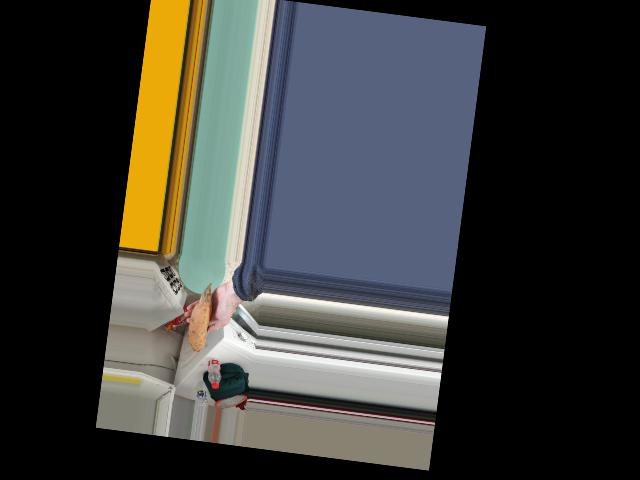sweet_potato: (186, 284, 216, 353)
